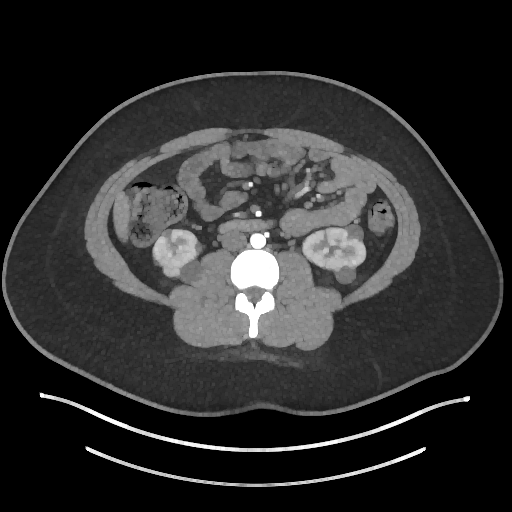Lesion: (162, 256, 183, 280)
